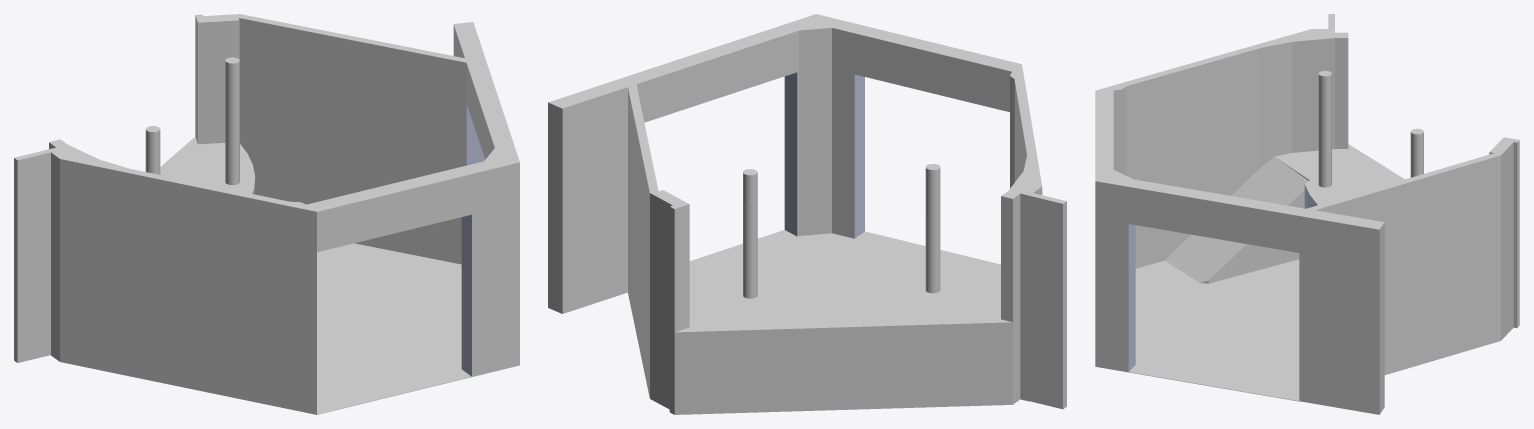
File: laboratorio.glb
3 renders of one model, left to right at view 1: azimuth 30°, elevation 25°; view 2: azimuth 150°, elevation 25°; view 3: azimuth 270°, elevation 25°, orthographic. The views are drawn at different scales.
Parts seen in each view (by area): view 1: color, color-4; view 2: color, color-4; view 3: color, color-4.
Boxes of the visible parts, x1,y1,x2,y2 form: color: (14,14,519,414); color-4: (252,104,485,376); color: (548,14,1066,414); color-4: (784,72,864,238); color: (1095,14,1519,414); color-4: (1128,159,1317,371).
Bounding box in the file's own units: 12.49 × 5.01 × 10.38.
